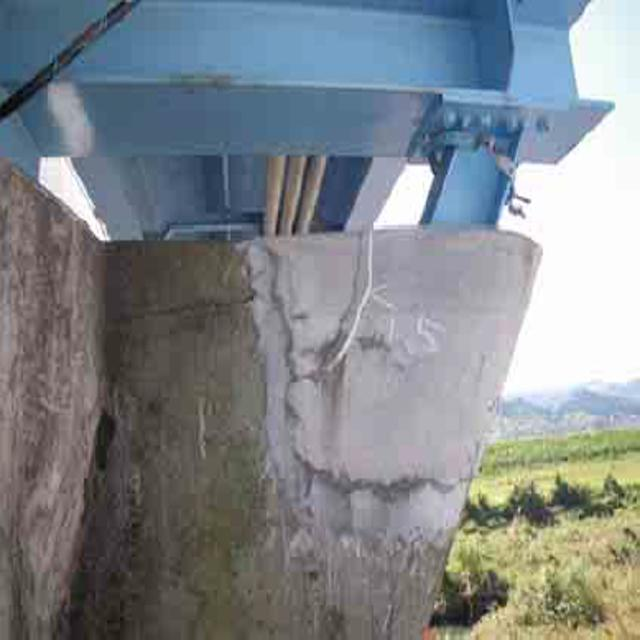crack: (332, 230, 392, 383)
